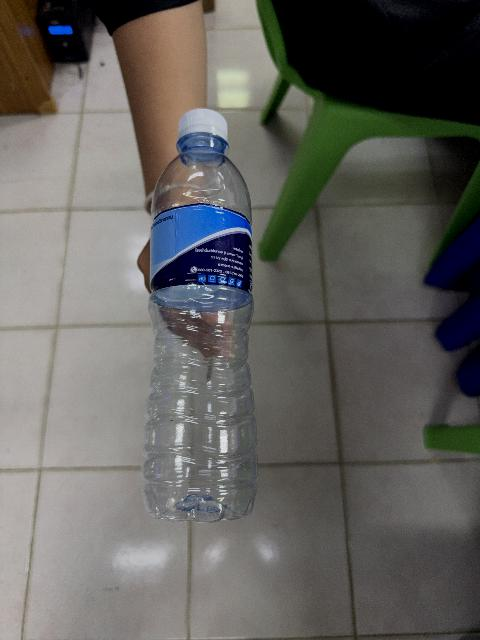bottle: (143, 109, 257, 522)
